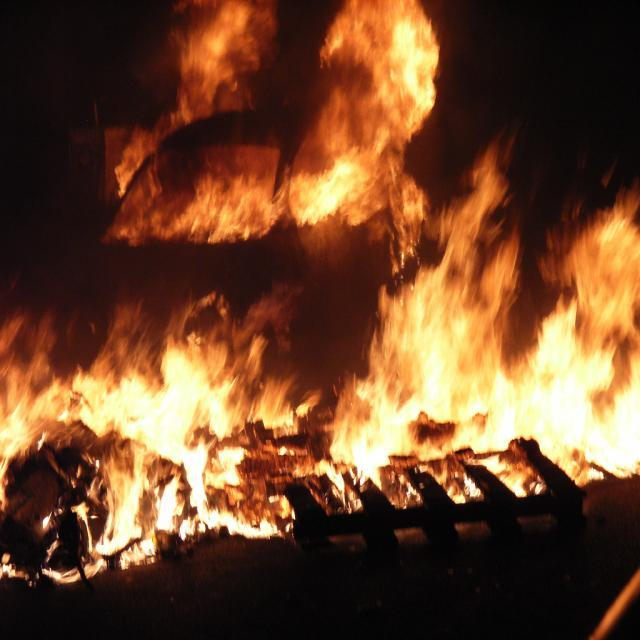Fire: (379, 280, 500, 438), (94, 380, 210, 535), (542, 337, 626, 470), (350, 10, 424, 132), (301, 162, 381, 222)
